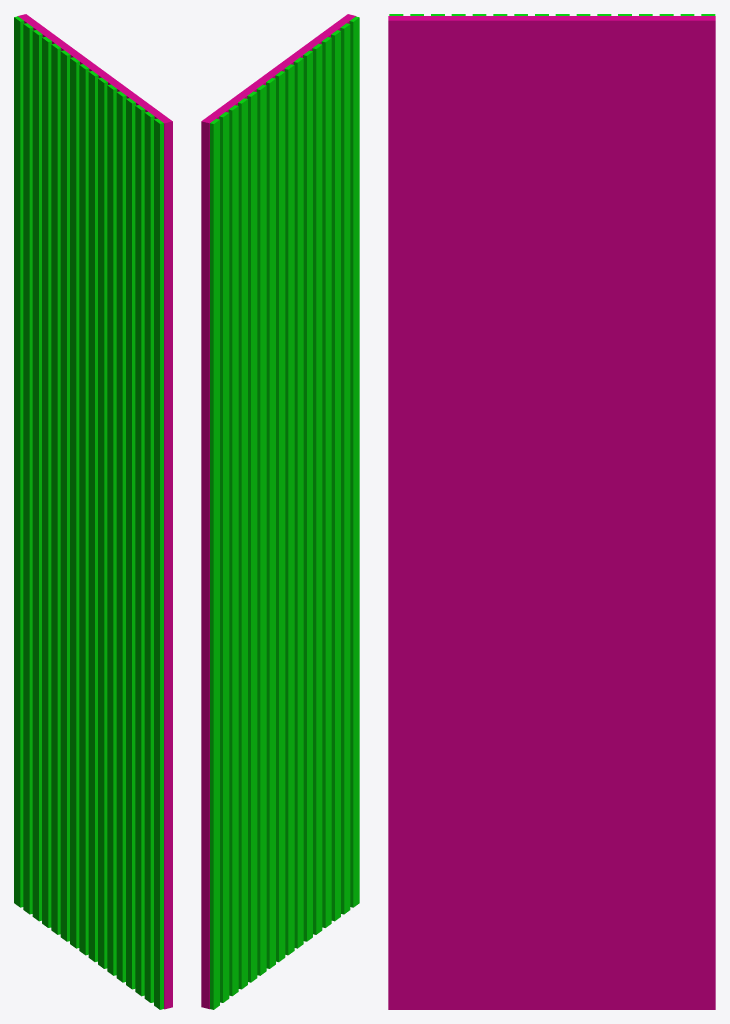
File: SM_MB_Storage_Door_1.fbx
The picture shows the model from 3 angles, left to right: view 1: azimuth 30°, elevation 25°; view 2: azimuth 150°, elevation 25°; view 3: azimuth 270°, elevation 25°; orthographic projection. The views are drawn at different scales.
Visible parts, largest first — view 1: SM_MB_Storage_Door_1; view 2: SM_MB_Storage_Door_1; view 3: SM_MB_Storage_Door_1.
Part boxes in pixels (<box>): SM_MB_Storage_Door_1: <box>14,14,172,1009</box>; SM_MB_Storage_Door_1: <box>201,14,359,1009</box>; SM_MB_Storage_Door_1: <box>388,14,715,1009</box>.
Bounding box in the file's own units: 2.9 × 200 × 60.
